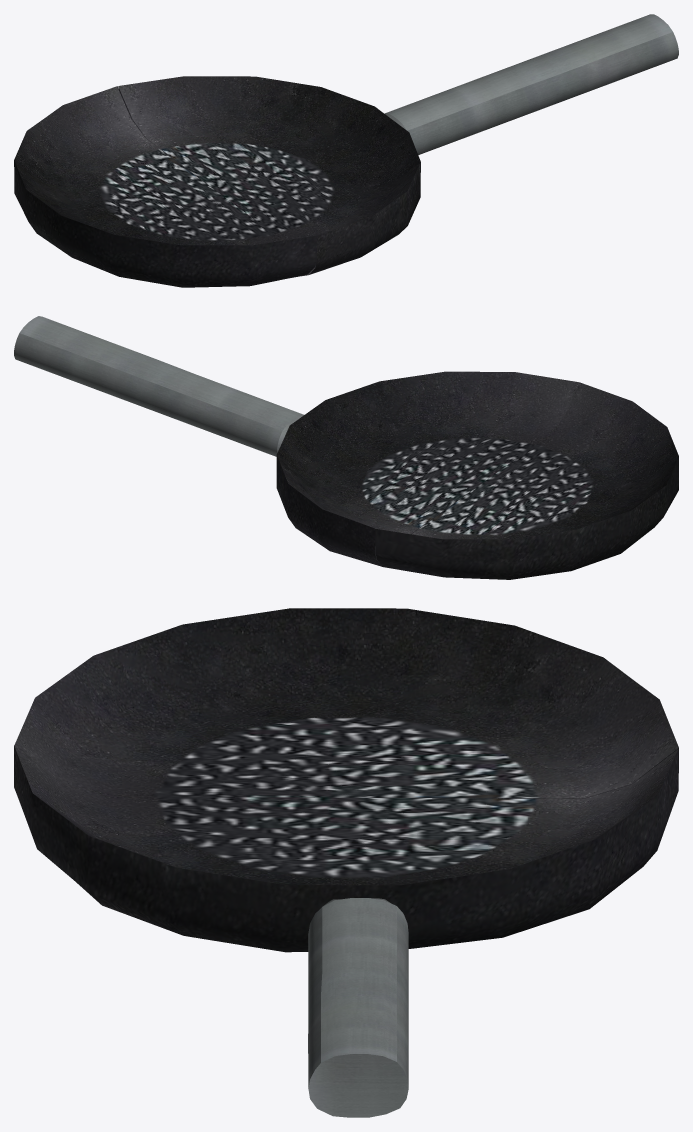
The model's file is patelnia.FBX.
3 renders of one model, top to bottom at view 1: azimuth 30°, elevation 25°; view 2: azimuth 150°, elevation 25°; view 3: azimuth 270°, elevation 25°, orthographic. The views are drawn at different scales.
Visible parts, largest first — view 1: Cylinder001, Cylinder002, Box001; view 2: Cylinder001, Cylinder002, Box001; view 3: Cylinder002, Cylinder001, Box001.
Boxes of the visible parts, box(x1,y1,x2,y2) form: Cylinder001: box(118, 76, 420, 275); Cylinder002: box(14, 86, 316, 287); Box001: box(384, 14, 678, 154); Cylinder001: box(276, 371, 579, 566); Cylinder002: box(375, 382, 678, 579); Box001: box(14, 316, 303, 456); Cylinder002: box(14, 608, 678, 798); Cylinder001: box(14, 745, 678, 952); Box001: box(308, 898, 408, 1117).
Size of the model in its own units: 128 by 16.17 by 71.84.
